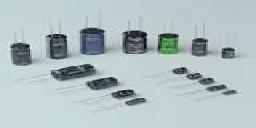Electrolytic-Capacitor: (44, 15, 71, 61), (80, 10, 107, 56), (34, 62, 101, 80), (119, 15, 148, 54), (157, 12, 178, 55), (9, 25, 30, 65), (188, 18, 206, 54), (220, 31, 241, 57), (86, 74, 124, 87), (123, 96, 148, 105), (108, 89, 136, 96)
